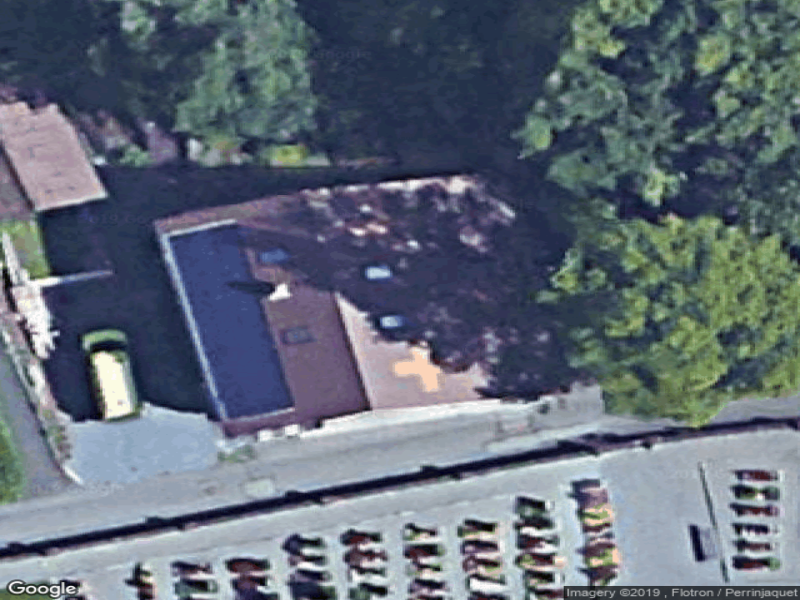pv: (168, 224, 296, 421)
